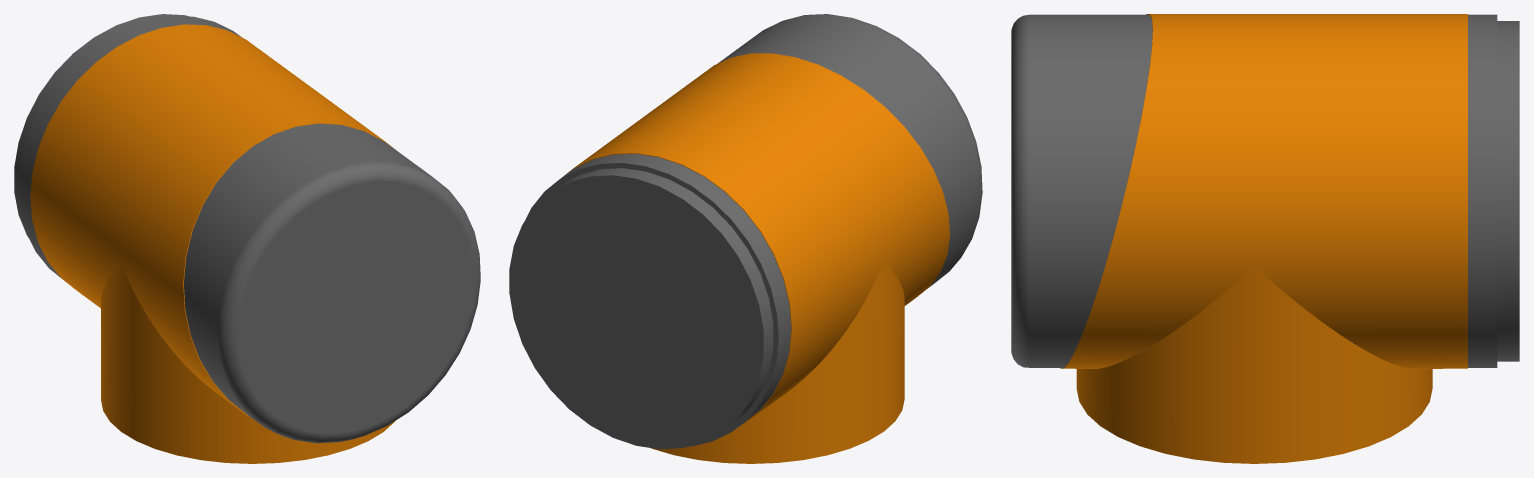
The picture shows the model from 3 angles, left to right: view 1: azimuth 30°, elevation 25°; view 2: azimuth 150°, elevation 25°; view 3: azimuth 270°, elevation 25°; orthographic projection. The views are drawn at different scales.
Visible parts, largest first — view 1: NONE; view 2: NONE; view 3: NONE.
Part boxes in pixels (<box>): NONE: <box>14,14,480,463</box>; NONE: <box>509,14,982,463</box>; NONE: <box>1011,14,1519,463</box>.
Size of the model in its own units: 0.098 by 0.14 by 0.109.
